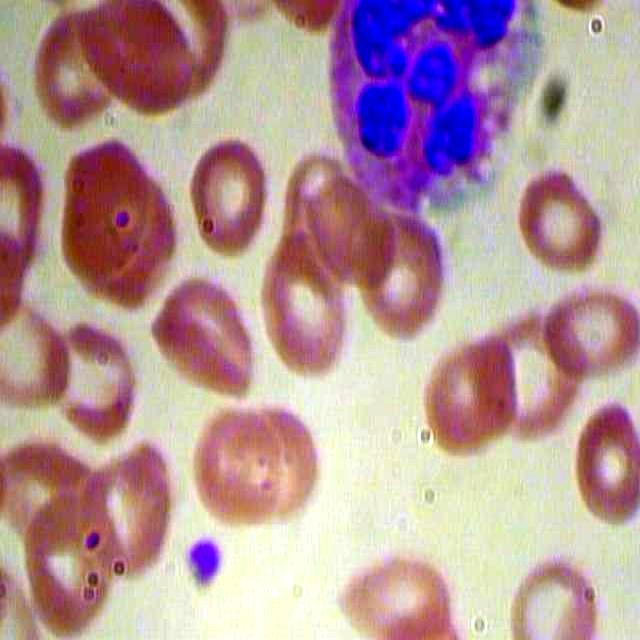Platelets: (177, 530, 224, 590)
RBC: (51, 133, 155, 290), (146, 267, 259, 405), (74, 433, 176, 579), (418, 328, 522, 471), (77, 1, 201, 120), (253, 232, 354, 375), (348, 201, 449, 344), (189, 389, 281, 534), (37, 315, 138, 445), (336, 544, 457, 640), (186, 136, 270, 263), (520, 157, 604, 284), (556, 401, 640, 528), (538, 285, 640, 387)
WBC: (325, 1, 545, 216)
